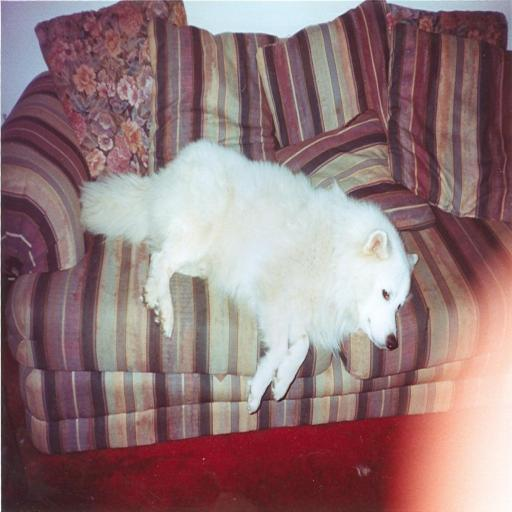dog_face: (352, 224, 419, 358)
